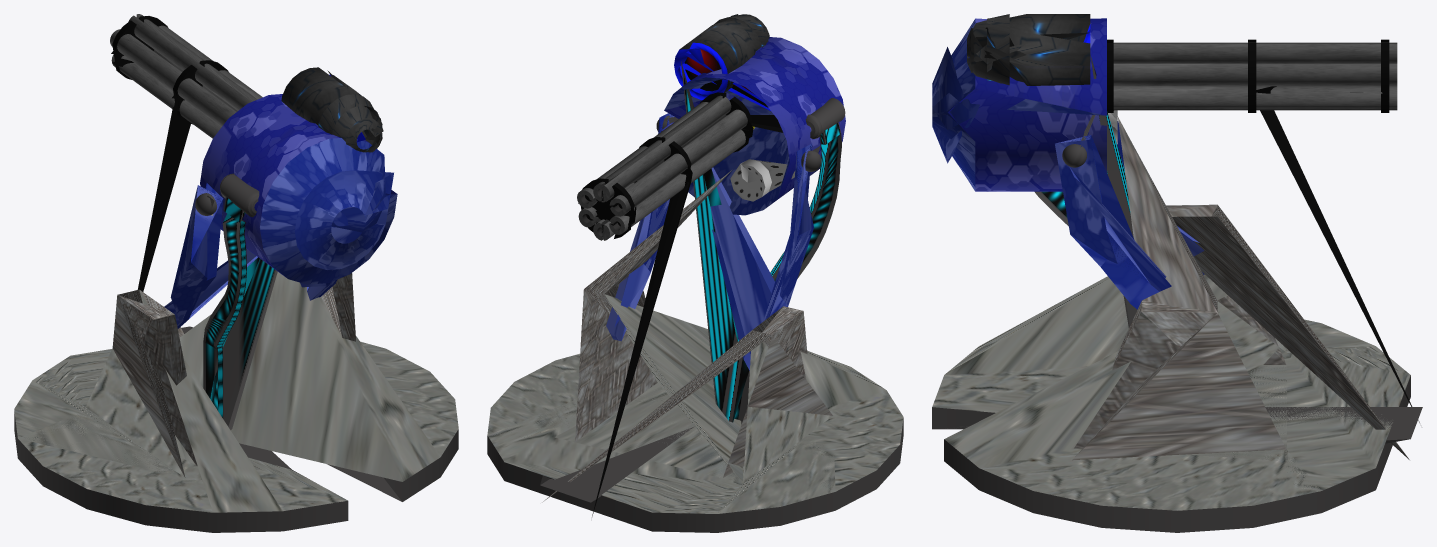
The model's file is turret.obj.
3 renders of one model, left to right at view 1: azimuth 30°, elevation 25°; view 2: azimuth 150°, elevation 25°; view 3: azimuth 270°, elevation 25°, orthographic. The views are drawn at different scales.
Parts seen in each view (by area): view 1: polySurface90 polySurface113, polySurface98 polySurface90, polySurface90 polySurface99, polySurface90 polySurface100, polySurface90 polySurface116, polySurface90 polySurface108, polySurface90 polySurface105, polySurface90 polySurface109 polySurface120, polySurface90 polySurface109 polySurface122, polySurface90 polySurface101, polySurface90 polySurface107, polySurface90 polySurface119 polySurface109; view 2: polySurface90 polySurface113, polySurface98 polySurface90, polySurface90 polySurface99, polySurface90 polySurface116, polySurface90 polySurface100, polySurface90 polySurface105, polySurface90 polySurface108, polySurface90 polySurface109 polySurface120, polySurface90 polySurface117, polySurface90 polySurface109 polySurface122, polySurface90 polySurface114, polySurface90 polySurface101 (+3 smaller); view 3: polySurface90 polySurface113, polySurface98 polySurface90, polySurface90 polySurface100, polySurface90 polySurface117, polySurface90 polySurface105, polySurface90 polySurface119 polySurface109, polySurface90 polySurface109 polySurface121, polySurface90 polySurface108, polySurface90 polySurface99, polySurface90 polySurface107, polySurface90 polySurface118.
Boxes of the visible parts, x1,y1,x2,y2 form: polySurface90 polySurface113: (14, 272, 458, 532); polySurface98 polySurface90: (200, 94, 397, 284); polySurface90 polySurface99: (203, 196, 277, 430); polySurface90 polySurface100: (281, 67, 383, 152); polySurface90 polySurface116: (164, 183, 257, 328); polySurface90 polySurface108: (137, 60, 228, 291); polySurface90 polySurface105: (128, 14, 257, 110); polySurface90 polySurface109 polySurface120: (110, 29, 236, 126); polySurface90 polySurface109 polySurface122: (111, 54, 221, 138); polySurface90 polySurface101: (220, 173, 259, 217); polySurface90 polySurface107: (111, 16, 168, 79); polySurface90 polySurface119 polySurface109: (158, 25, 262, 111); polySurface90 polySurface113: (487, 170, 903, 532); polySurface98 polySurface90: (661, 37, 845, 215); polySurface90 polySurface99: (681, 61, 841, 424); polySurface90 polySurface116: (710, 143, 813, 370); polySurface90 polySurface100: (674, 14, 770, 110); polySurface90 polySurface105: (593, 95, 731, 240); polySurface90 polySurface108: (592, 137, 692, 516); polySurface90 polySurface109 polySurface120: (609, 109, 747, 216); polySurface90 polySurface117: (606, 113, 674, 341); polySurface90 polySurface109 polySurface122: (609, 130, 745, 234); polySurface90 polySurface114: (730, 159, 795, 201); polySurface90 polySurface101: (750, 98, 845, 138); polySurface90 polySurface113: (932, 116, 1422, 532); polySurface98 polySurface90: (932, 18, 1106, 191); polySurface90 polySurface100: (967, 14, 1090, 85); polySurface90 polySurface117: (1055, 135, 1171, 309); polySurface90 polySurface105: (1113, 42, 1397, 110); polySurface90 polySurface119 polySurface109: (1113, 63, 1397, 86); polySurface90 polySurface109 polySurface121: (1113, 86, 1397, 107); polySurface90 polySurface108: (1248, 39, 1419, 422); polySurface90 polySurface99: (1034, 55, 1137, 327); polySurface90 polySurface107: (1249, 39, 1389, 112); polySurface90 polySurface118: (1062, 115, 1095, 167).
Size of the model in its own units: 3.94 by 3.82 by 3.94.
